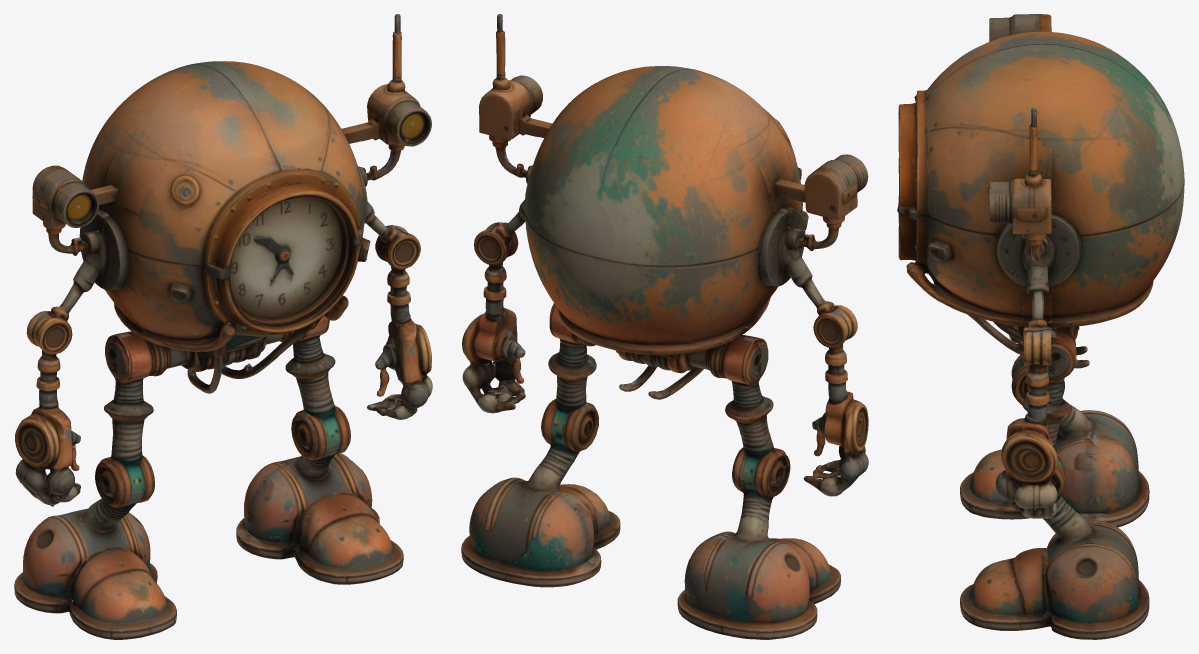
The model's file is varco3d_pbr_model.glb.
3 renders of one model, left to right at view 1: azimuth 30°, elevation 25°; view 2: azimuth 150°, elevation 25°; view 3: azimuth 270°, elevation 25°, orthographic. The views are drawn at different scales.
Parts seen in each view (by area): view 1: input; view 2: input; view 3: input.
Part boxes in pixels (x1,y1,x2,y2): input: [14, 14, 432, 639]; input: [461, 14, 868, 639]; input: [897, 14, 1184, 639].
Bounding box in the file's own units: 0.8017 × 0.9999 × 0.4895.
1 material, 1 textured.
